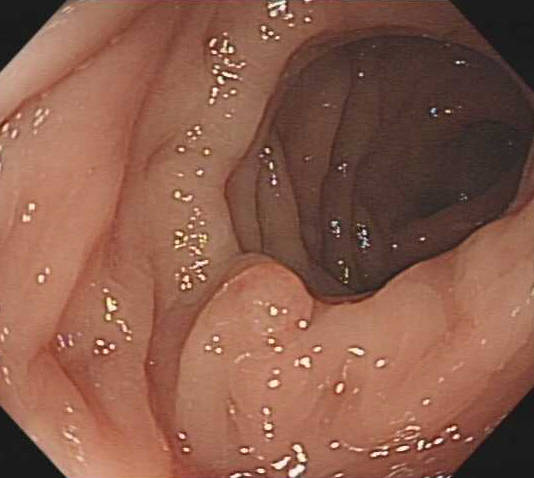others: (179, 261, 534, 441)
